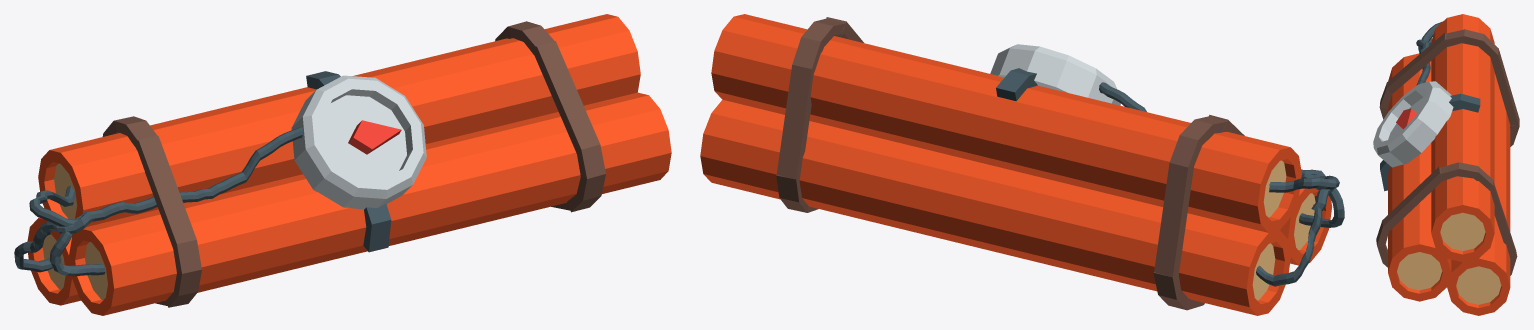
File: dynamite.fbx
3 renders of one model, left to right at view 1: azimuth 30°, elevation 25°; view 2: azimuth 150°, elevation 25°; view 3: azimuth 270°, elevation 25°, orthographic. The views are drawn at different scales.
Parts seen in each view (by area): view 1: group_329809162; view 2: group_329809162; view 3: group_329809162.
Boxes of the visible parts, <box> form: group_329809162: <box>14,14,671,315</box>; group_329809162: <box>700,14,1344,315</box>; group_329809162: <box>1373,14,1519,315</box>.
Size of the model in its own units: 61.49 by 18.73 by 18.51.
